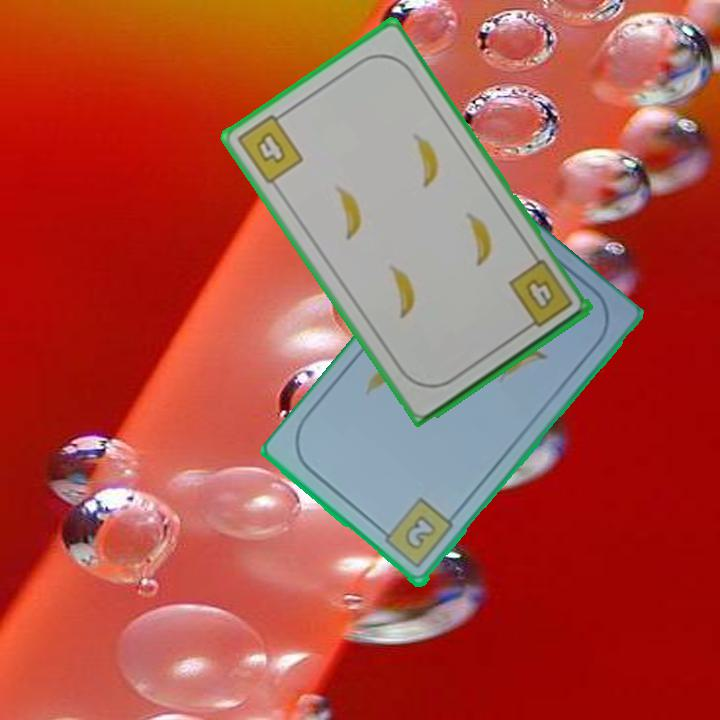2b: (375, 495, 456, 572)
4b: (233, 107, 306, 187), (504, 256, 576, 334)
